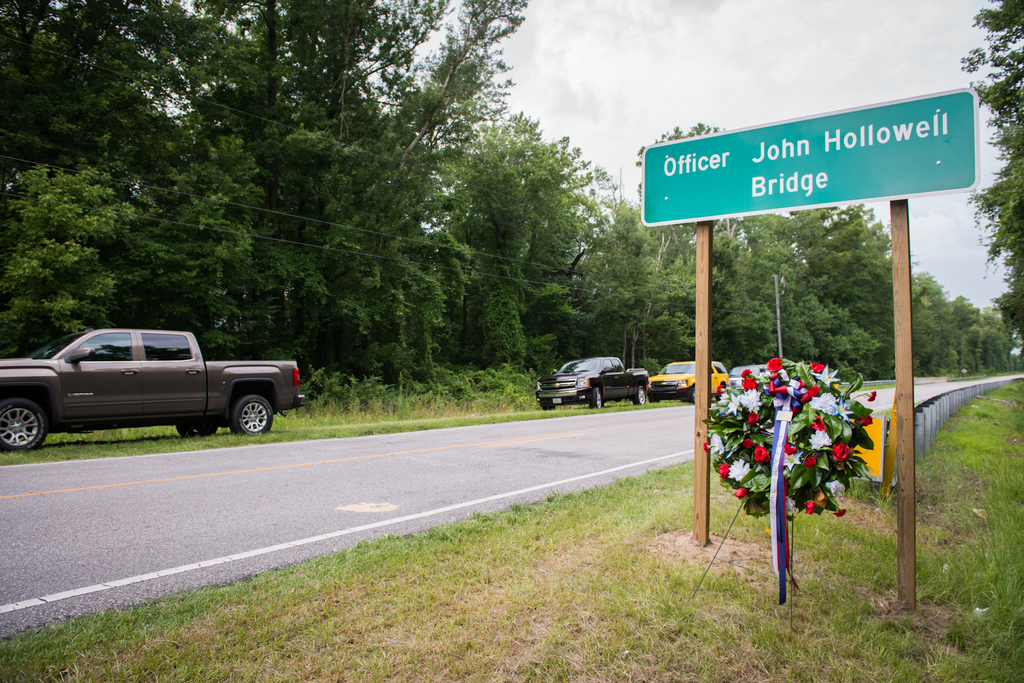Car: (13, 319, 266, 441), (641, 354, 729, 401)
